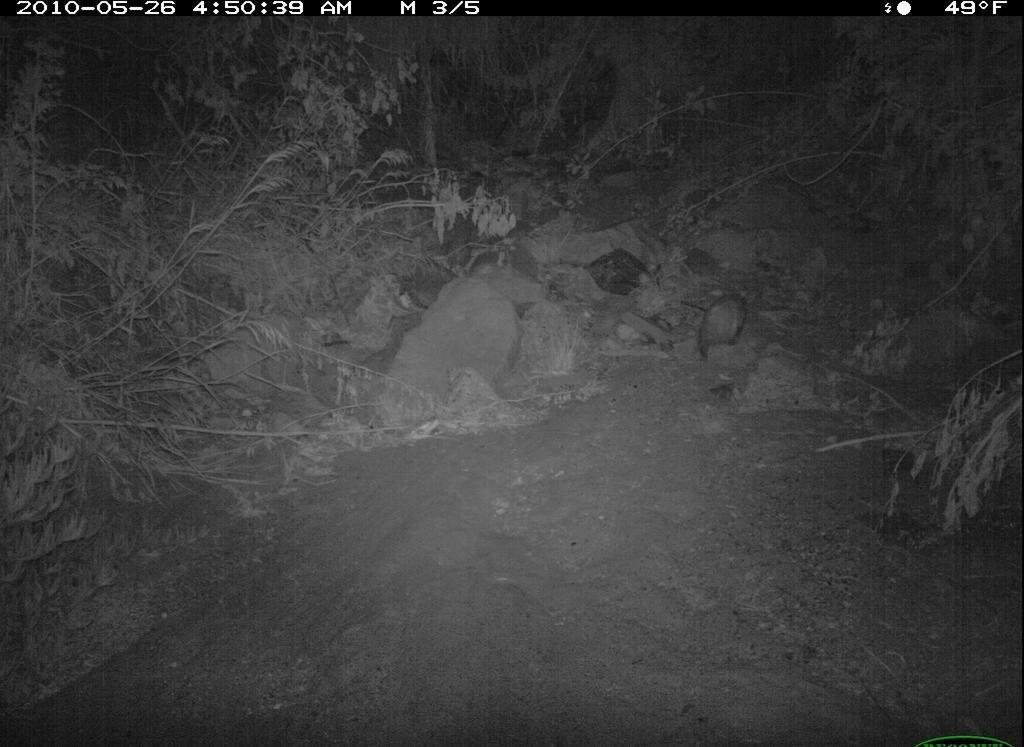opossum: (694, 283, 762, 369)
